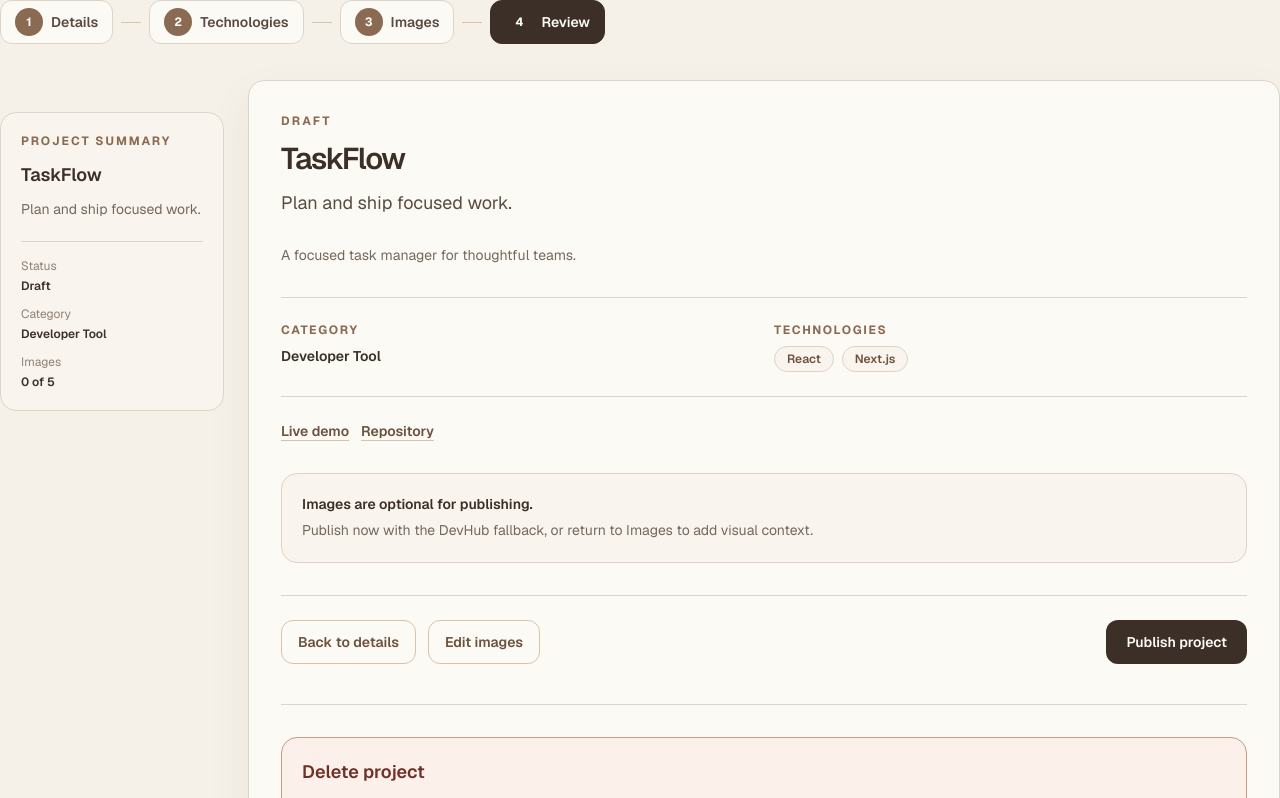
EditProjectComposer › keeps status-action errors visible
The width and height of the screenshot is (1280, 798).
Click the button "Publish project" at (1177, 642), box [1106, 620, 1247, 664]
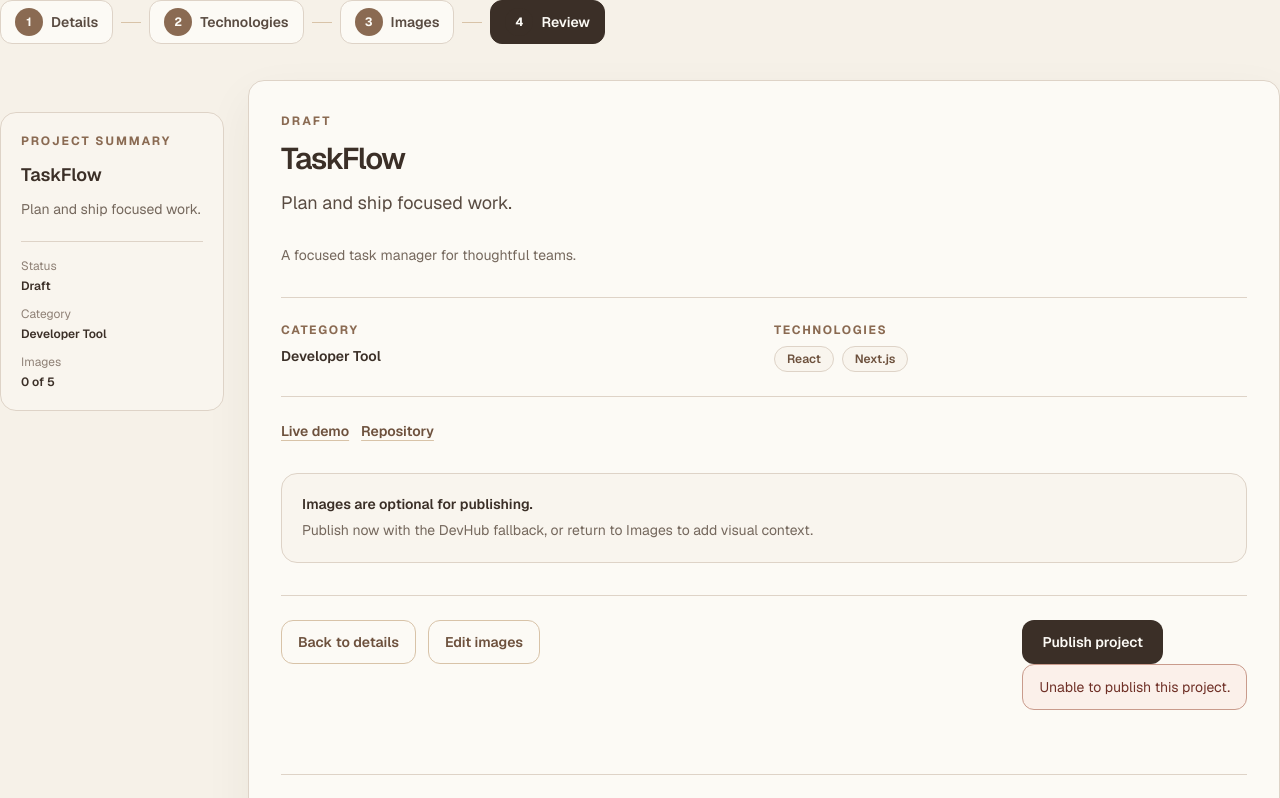
Expected: the message reads "Unable to publish this project.", [1040, 678, 1230, 696]
